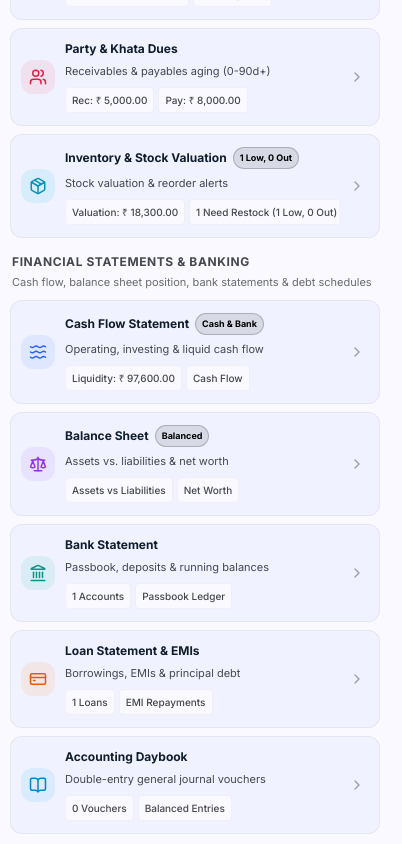
Reports Hub & Dedicated Pages Redesign Integration Suite (reportsHubView.test.tsx) › 8. Navigates to dedicated Loan Statement page and renders borrowings overview and EMI schedule
Click the button with aria-label "Open Loan Statement & EMIs report". click: (195, 679)
box: [10,630,380,728]
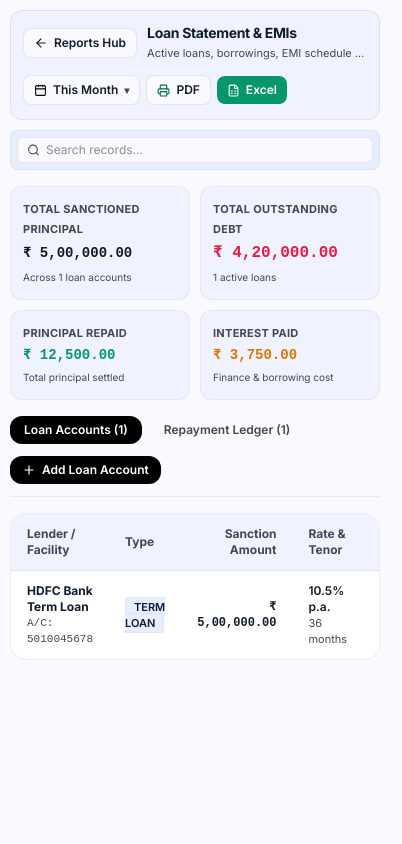
Expected: the text "Total Sanctioned Principal" is shown, [23,202,140,236]
Expected: the text "Total Outstanding Debt" is shown, [213,202,338,236]
Expected: the text "HDFC Bank Term Loan" is shown, [27,583,93,615]
